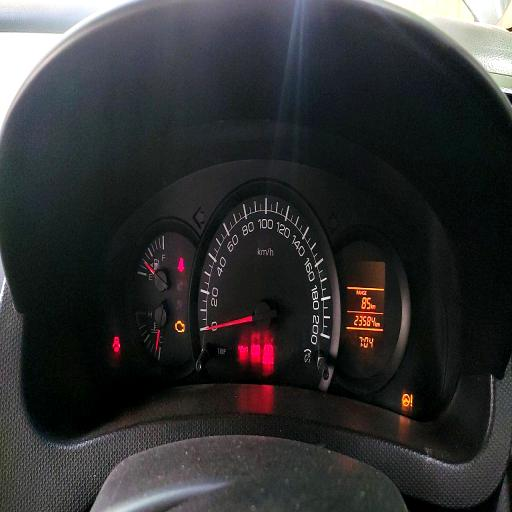belt: (178, 257, 184, 273)
check_engine: (175, 320, 184, 333)
